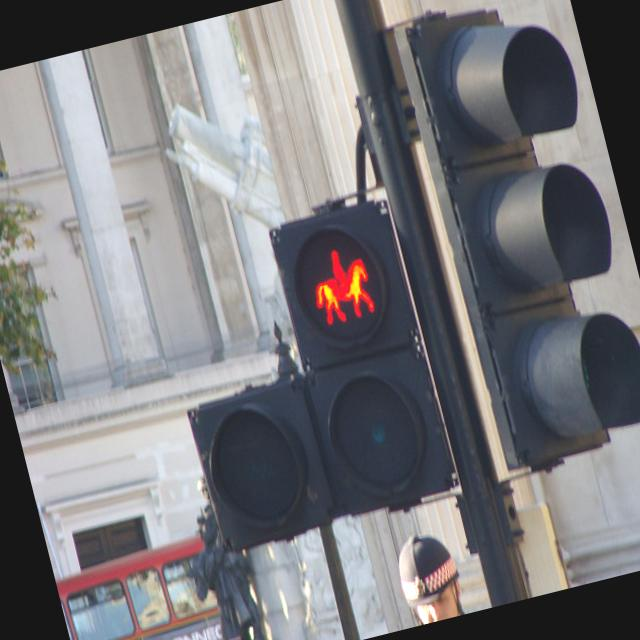Vehicle: (52, 534, 237, 640)
